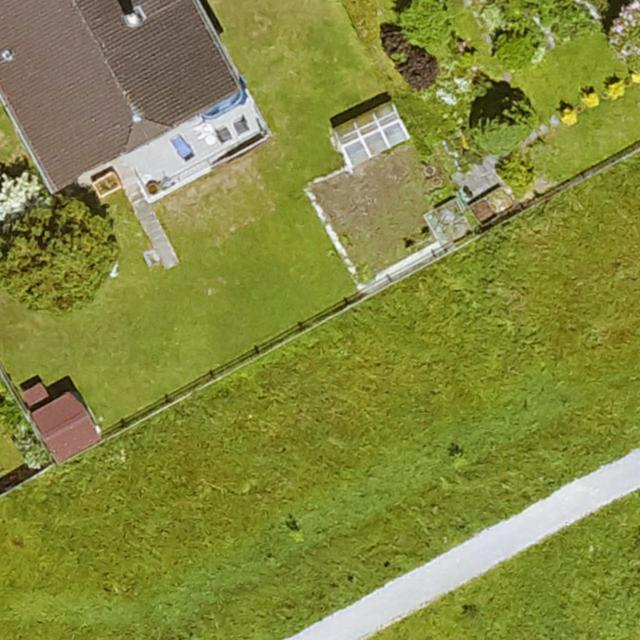tree: (0, 190, 111, 308), (472, 96, 542, 153)
